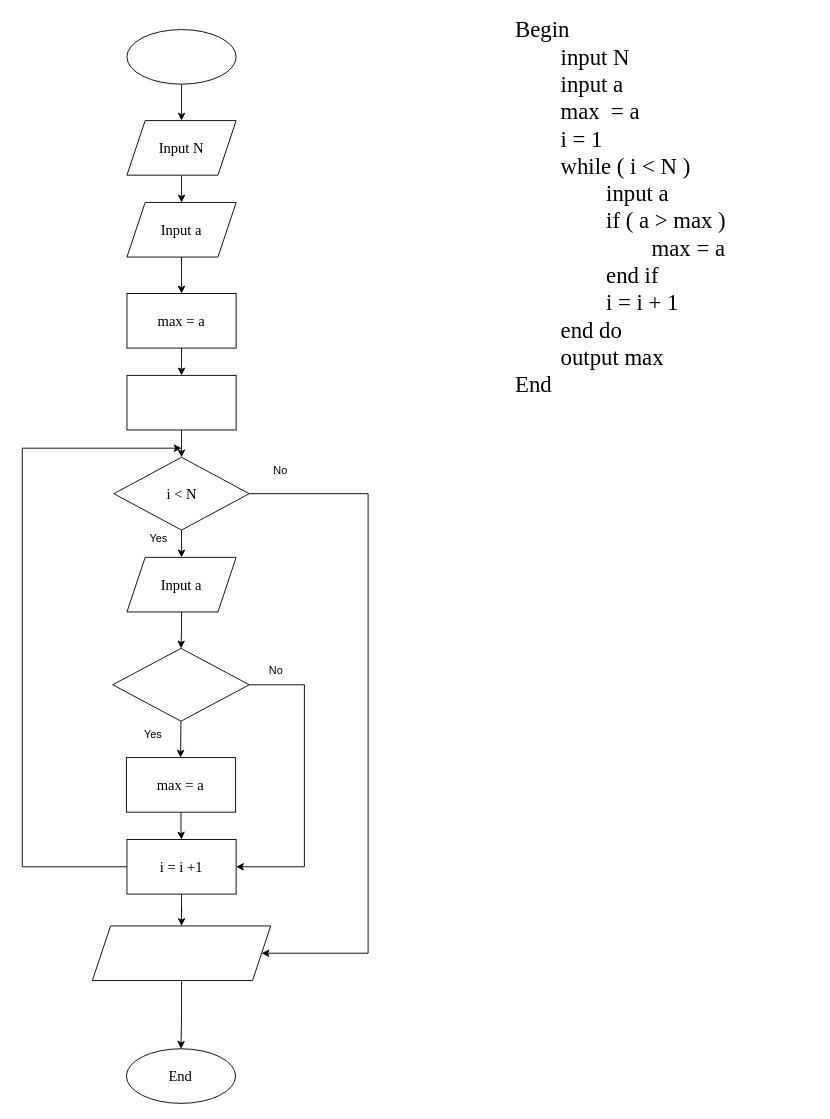
This 830x1119 diagram has some shape labels left out. The shapes that lost their labels are listed below. From the top down, each one's box as (x1, y1, x2, y2) in pixels, then its label:
(126, 29, 236, 84): Begin
(126, 374, 236, 430): i = 1
(112, 647, 249, 721): a > max
(91, 925, 271, 981): Output max
